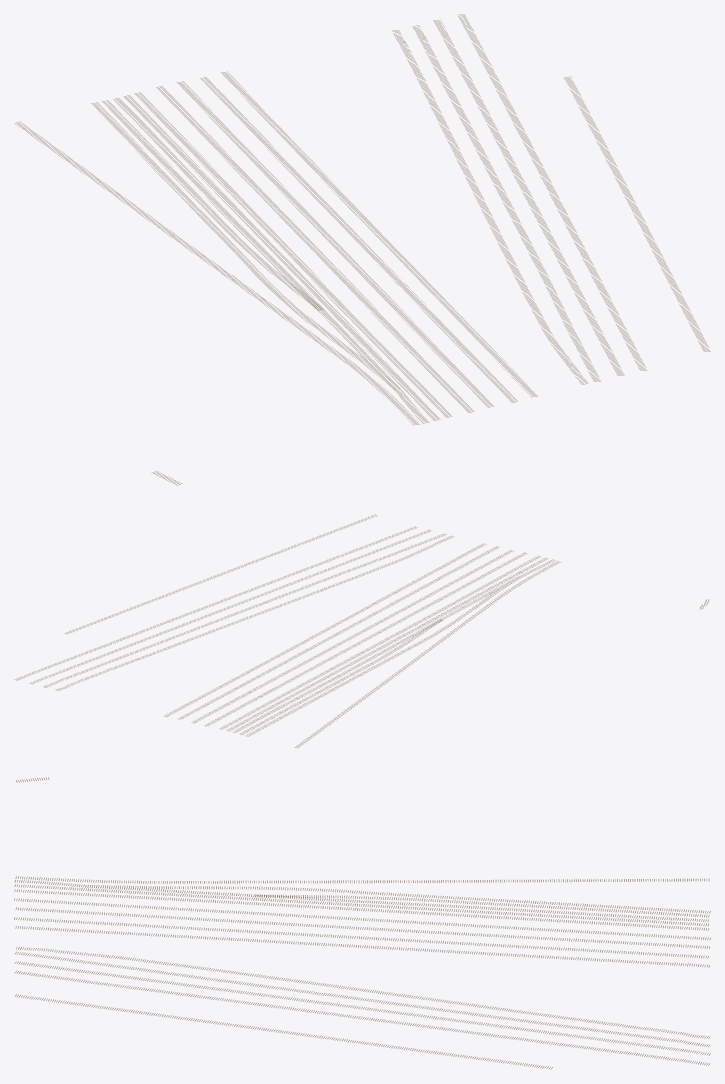
The model's file is c_1630_17828_rail_sleeper.glb.
The picture shows the model from 3 angles, top to bottom: view 1: azimuth 30°, elevation 25°; view 2: azimuth 150°, elevation 25°; view 3: azimuth 270°, elevation 25°; orthographic projection. The views are drawn at different scales.
Parts seen in each view (by area): view 1: geometry_0; view 2: geometry_0; view 3: geometry_0.
Boxes of the visible parts, x1=… form: geometry_0: x1=14, y1=14, x2=710, y2=485; geometry_0: x1=14, y1=514, x2=709, y2=747; geometry_0: x1=14, y1=777, x2=710, y2=1069.
Size of the model in its own units: 258 by 1.79 by 256.
